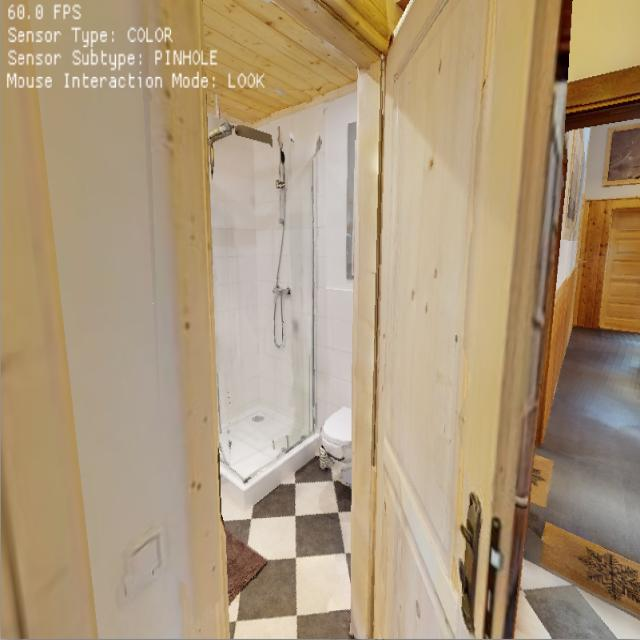door: (354, 0, 558, 640)
door-frame: (175, 0, 393, 640)
shower: (216, 131, 320, 488)
toilet: (316, 392, 368, 498)
